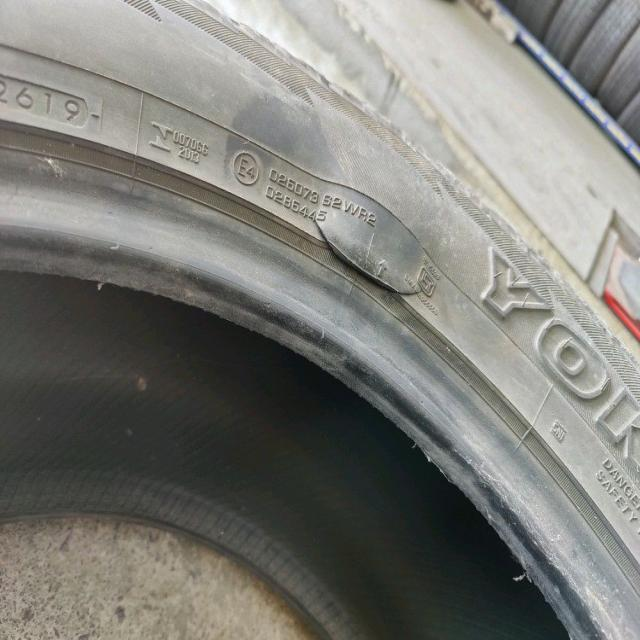Bulge: (309, 129, 450, 308)
